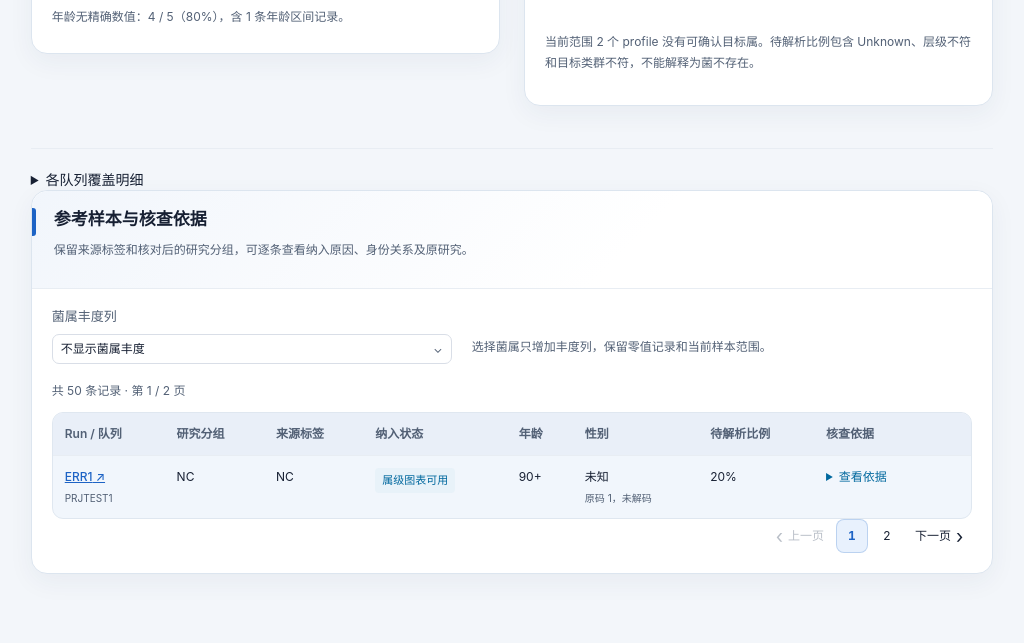
Test case: shows real scope, quality denominators, source values and traceable evidence
(page scrolled)
Expected: the text "年龄无精确数值：4 / 5（80%），含 1 条年龄区间记录。" is shown, [52,9,350,24]
Expected: the text "90+" is shown, [507,456,573,518]
Click the heading "查看依据". click: coordinates (863, 476)
box: [839,469,887,484]
(page scrolled)
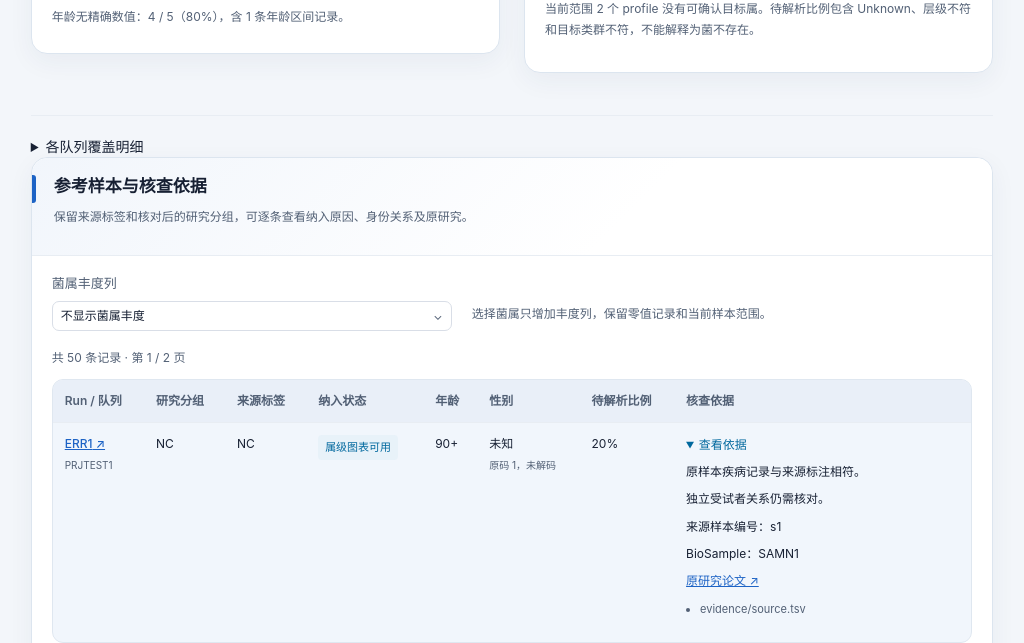
Expected: the text "独立受试者关系仍需核对。" is shown, [686,491,830,506]
Expected: the list item "evidence/source.tsv" is shown, [700,602,806,616]
